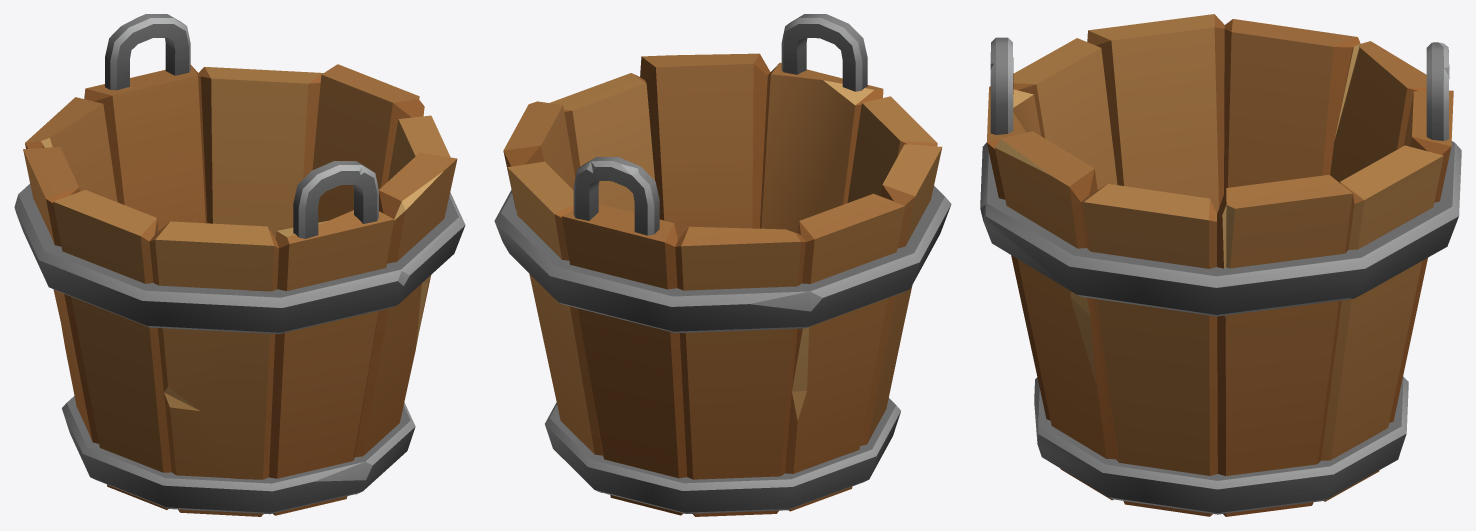
The model's file is Bucket_1_C.glb.
3 views of the same model, side by side, from view 1: azimuth 30°, elevation 25°; view 2: azimuth 150°, elevation 25°; view 3: azimuth 270°, elevation 25° (orthographic). The views are drawn at different scales.
Visible parts, largest first — view 1: Bucket_1_C; view 2: Bucket_1_C; view 3: Bucket_1_C.
Boxes of the visible parts, left/top/right/bottom form: Bucket_1_C: left=14, top=14, right=465, bottom=516; Bucket_1_C: left=494, top=14, right=951, bottom=516; Bucket_1_C: left=980, top=14, right=1461, bottom=516.
Size of the model in its own units: 0.4399 by 0.3849 by 0.4205.
Materials: 2 (2 with a texture image).
